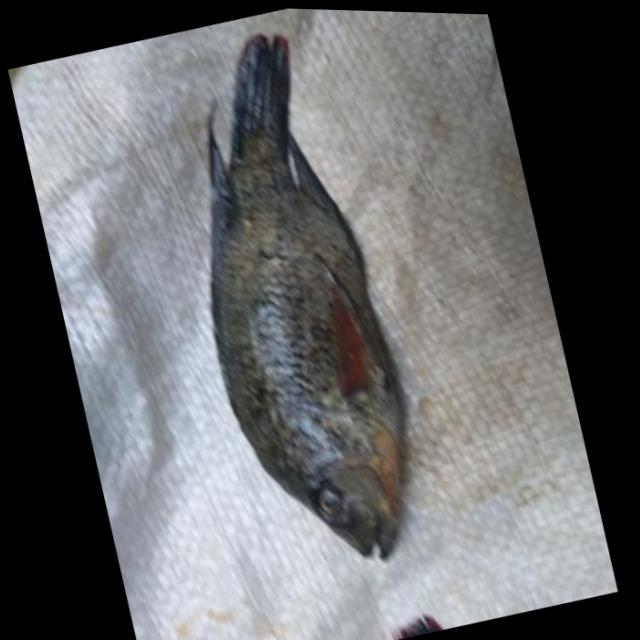Tilapia: (140, 16, 450, 592)
